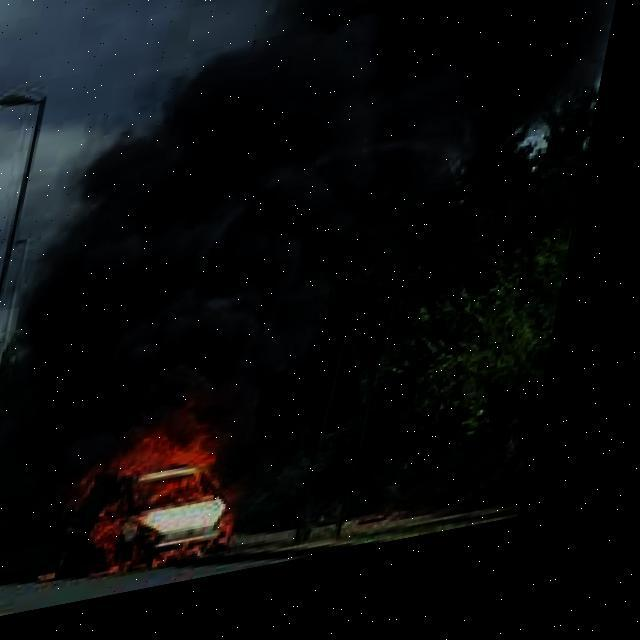Fire: (59, 387, 290, 602)
